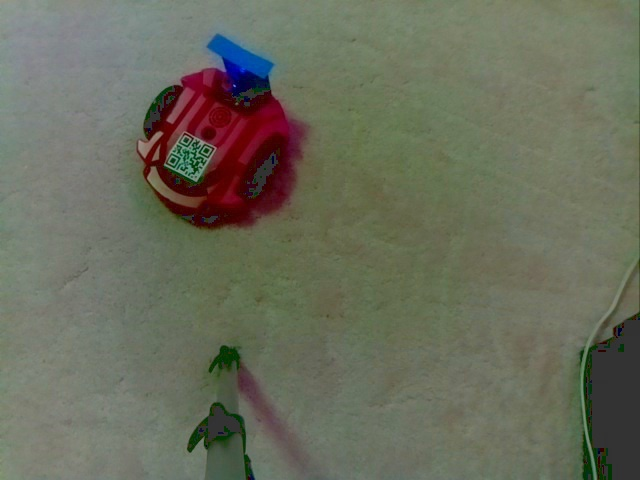board: (200, 33, 291, 110)
chassis: (138, 32, 294, 215)
